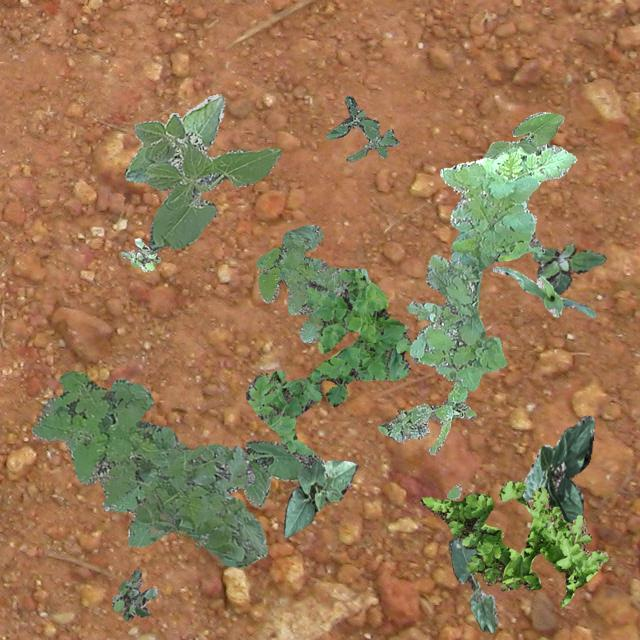crop: (124, 92, 280, 250), (202, 440, 324, 506), (520, 414, 594, 520), (282, 458, 356, 536), (492, 266, 594, 316), (448, 536, 498, 632), (482, 110, 562, 158)
weed: (30, 370, 266, 568), (406, 143, 576, 390), (245, 268, 410, 466), (420, 480, 608, 606), (255, 224, 369, 342), (376, 381, 474, 454), (324, 94, 398, 160), (530, 242, 604, 294), (110, 568, 156, 620), (120, 238, 160, 270), (446, 482, 460, 500)
